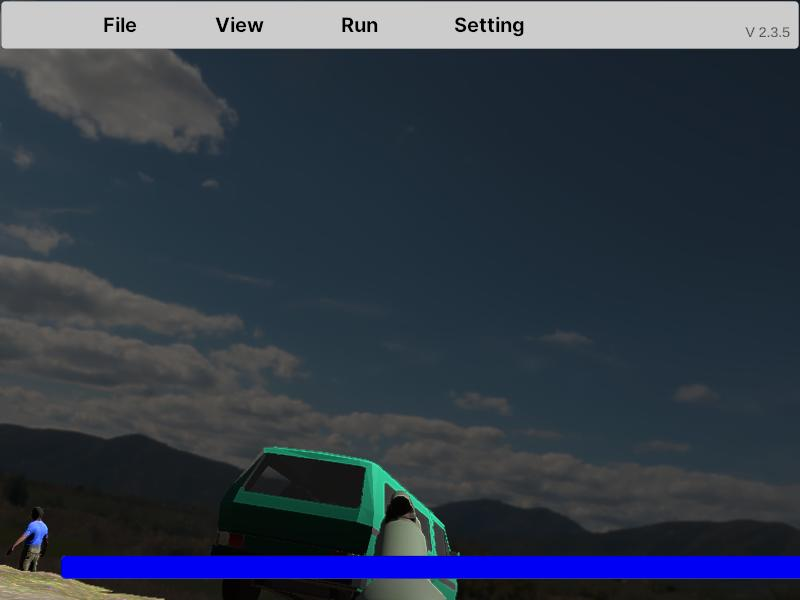Human: (8, 505, 49, 596)
car: (213, 446, 462, 600)
